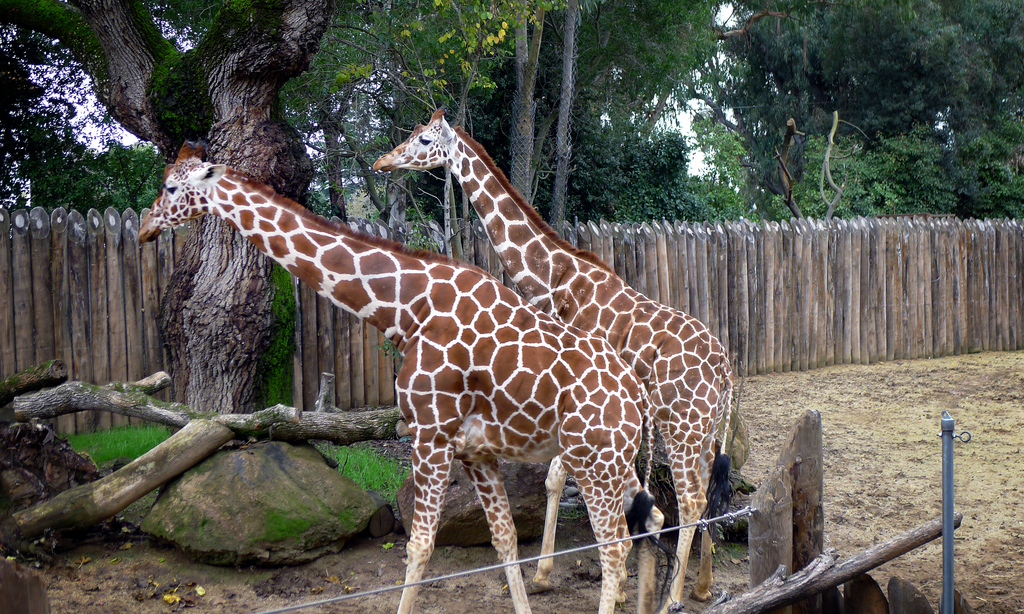giraffe: (135, 154, 681, 607), (372, 105, 759, 511)
